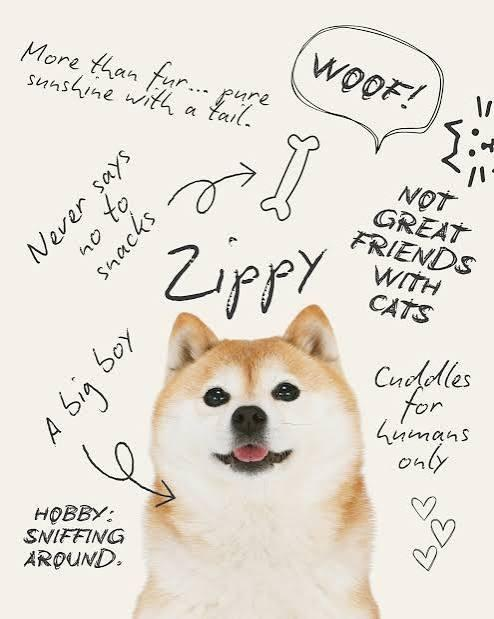adult_dog: (130, 303, 383, 619)
